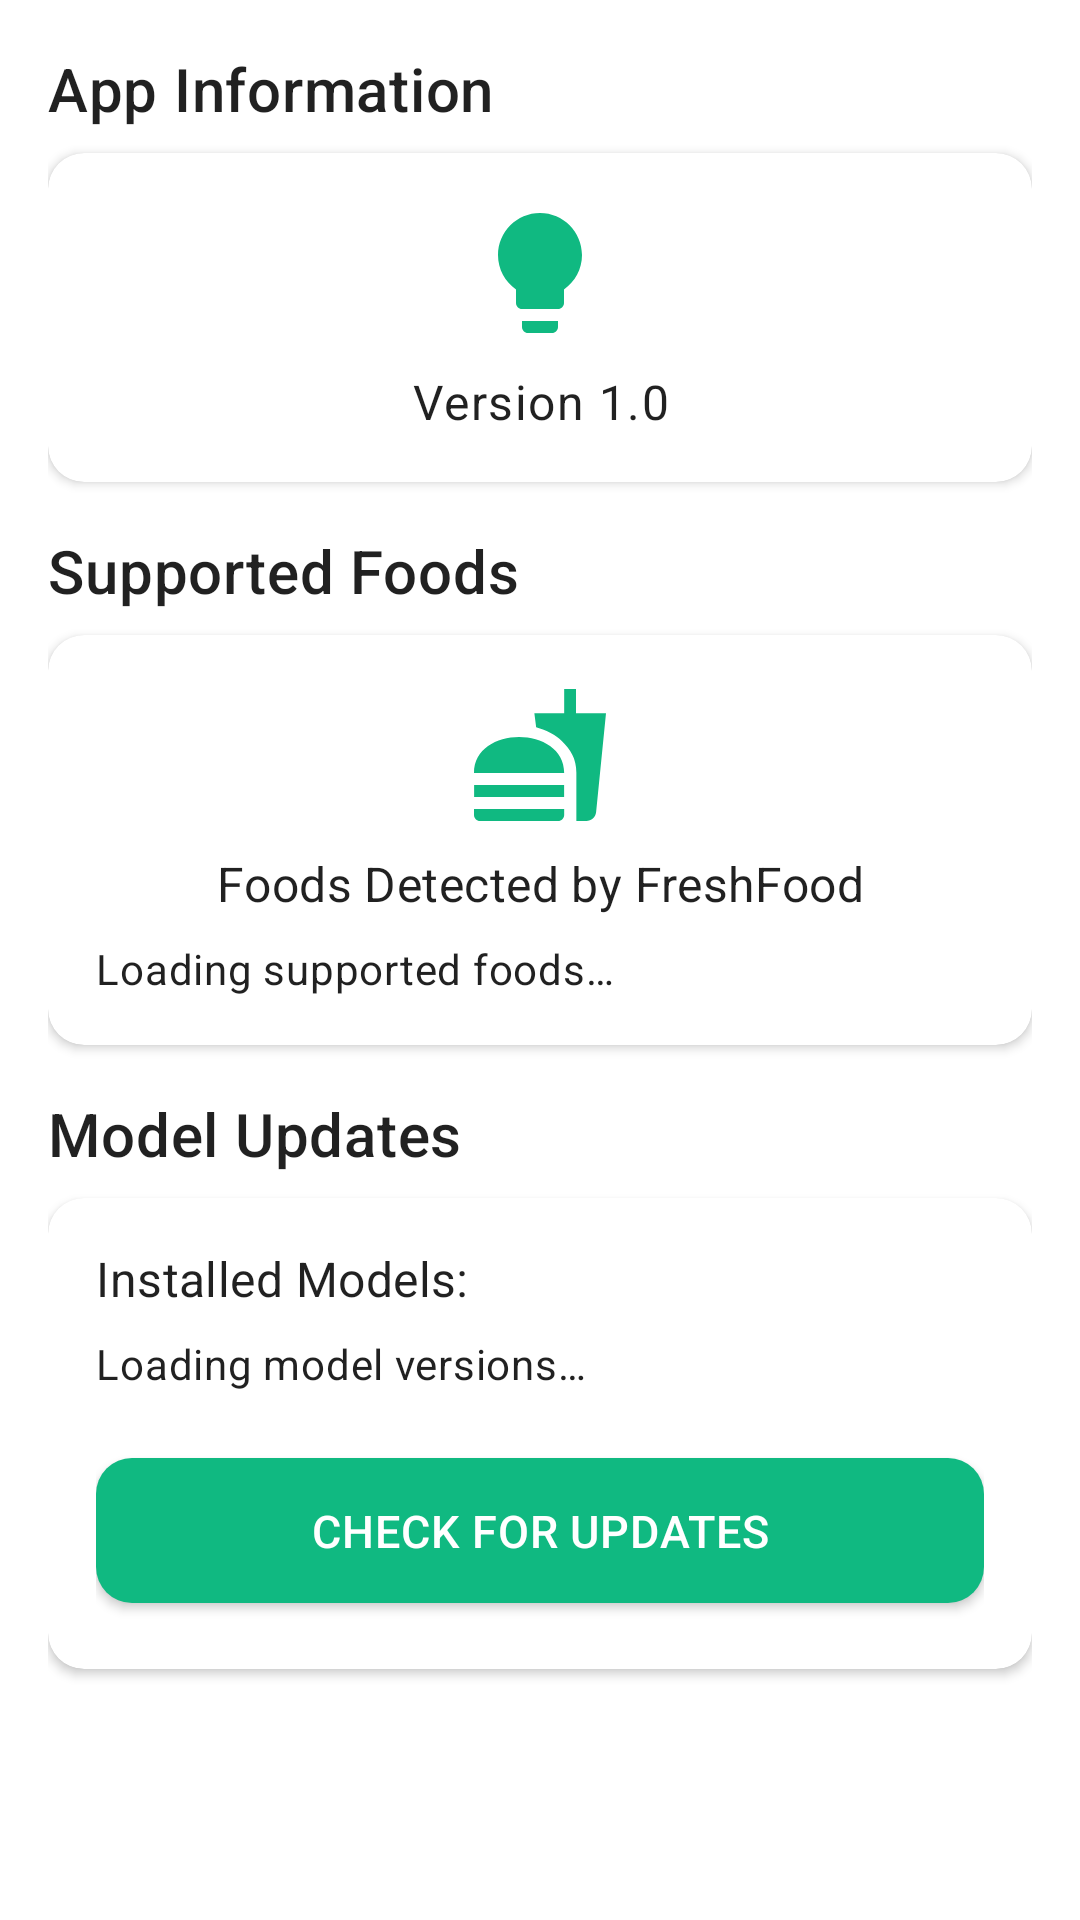

Where to tap for icons on this 1080 x 1920 app screen, as point (x, y):
lightbulb: point (540, 273)
